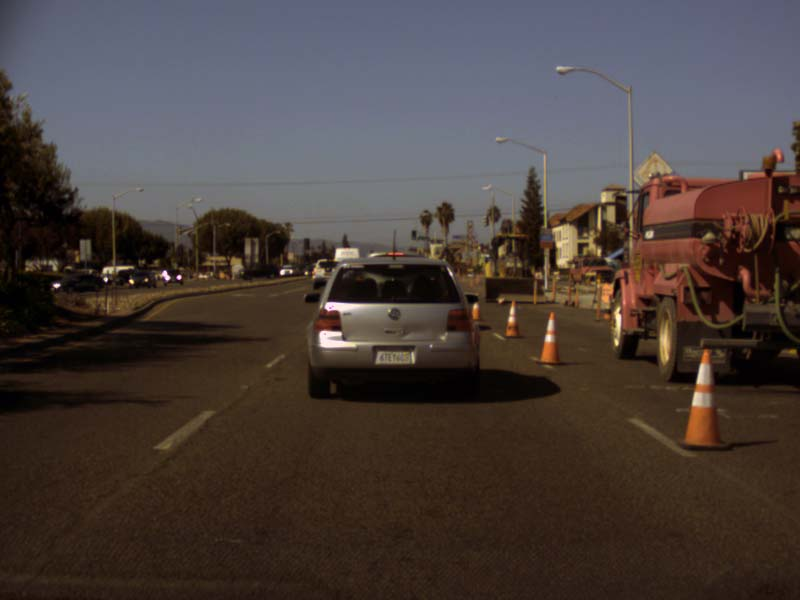Green: (410, 230, 415, 239)
